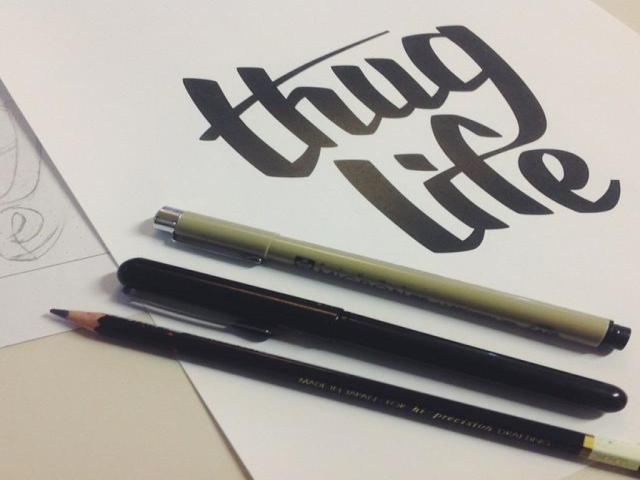PEN: (89, 243, 639, 437), (127, 179, 639, 387)
